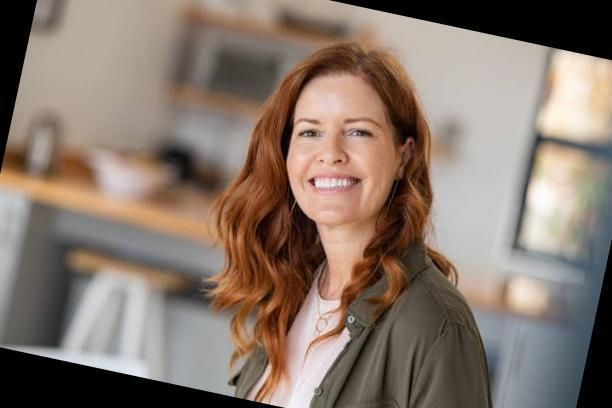Sober: (289, 87, 392, 217)
